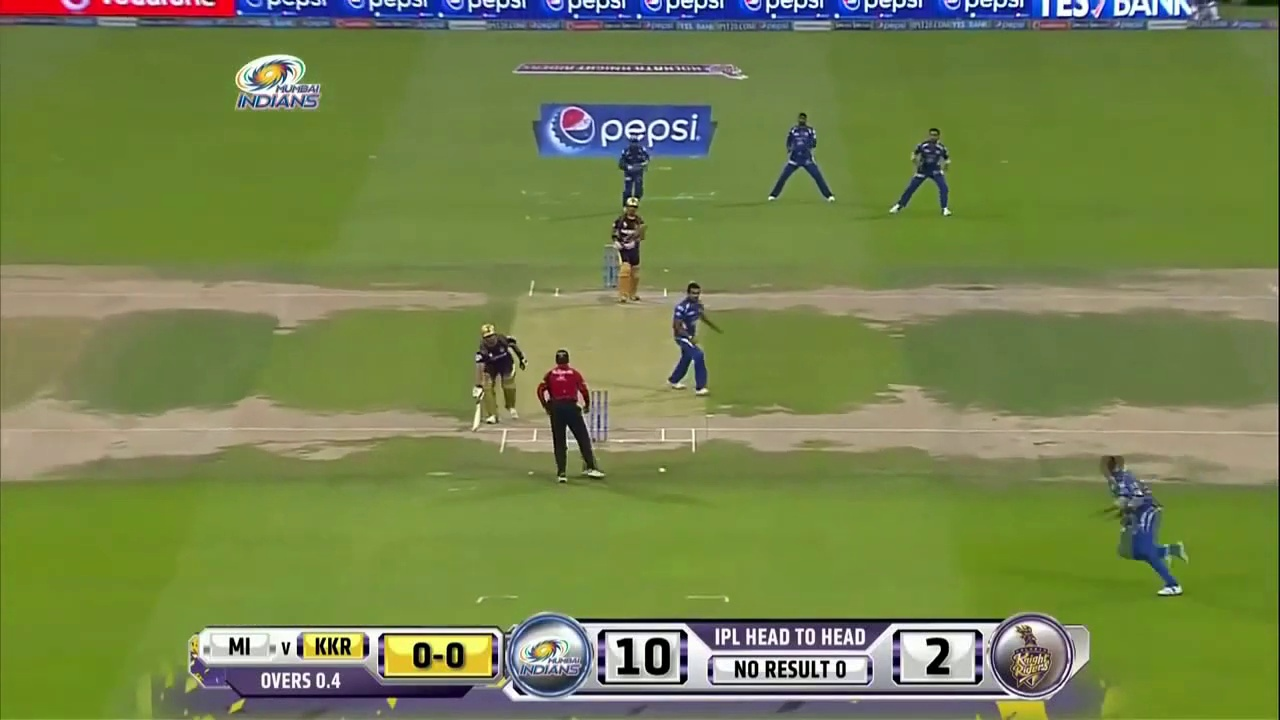bat: (472, 401, 482, 430)
stumps: (591, 388, 610, 440)
